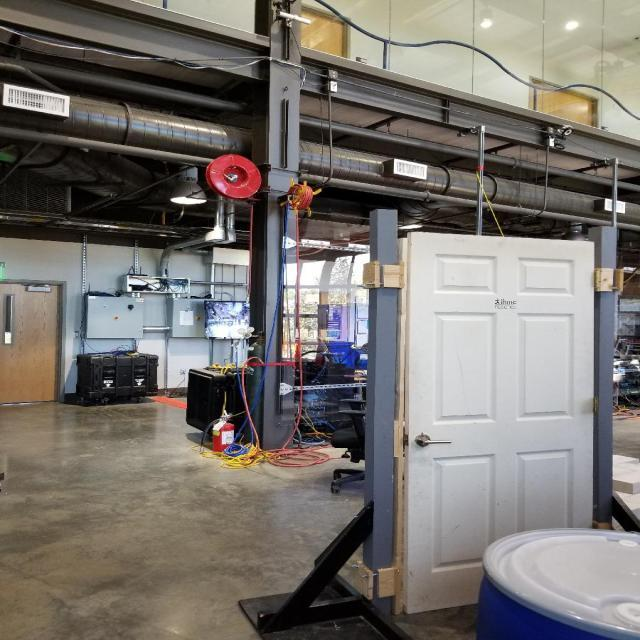door: (402, 226, 596, 618), (410, 430, 453, 448)
